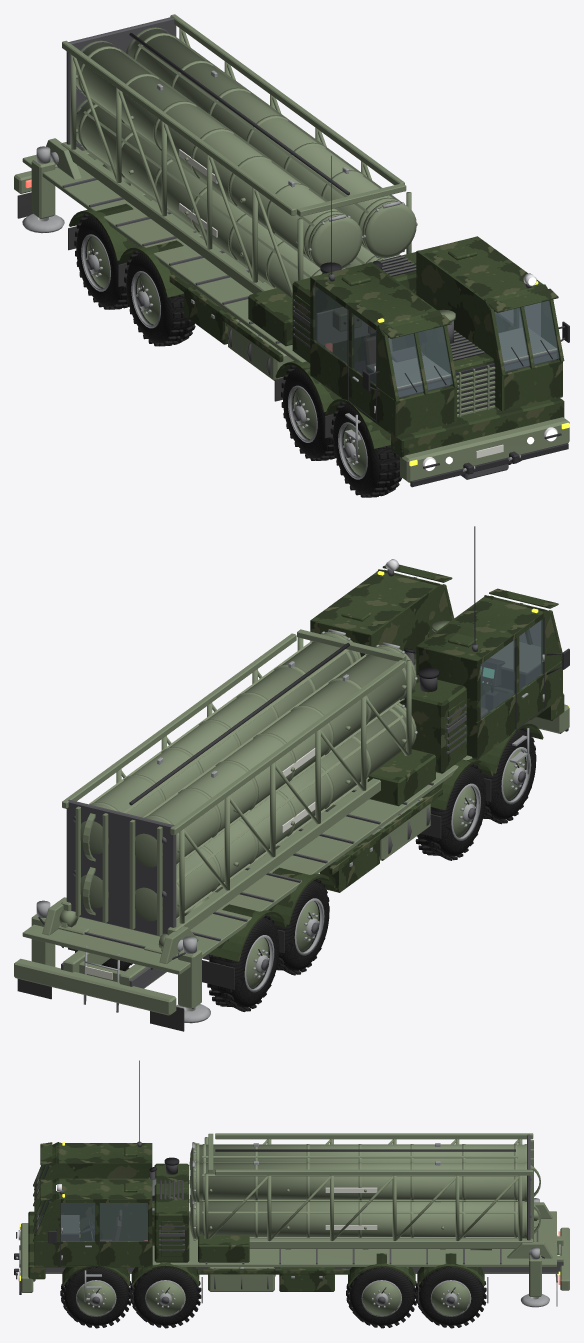
3 renders of one model, top to bottom at view 1: azimuth 30°, elevation 25°; view 2: azimuth 150°, elevation 25°; view 3: azimuth 270°, elevation 25°, orthographic. The views are drawn at different scales.
Visible parts, largest first — view 1: S400_body_geo, launcher_pitch_geo, canister_3_geo, canister_2_geo, canister_1_geo, wheel_5_geo, wheel_1_geo, wheel_3_geo, wheel_7_geo, lid_2_geo, lid_3_geo, jack_1_geo; view 2: S400_body_geo, launcher_pitch_geo, canister_3_geo, canister_2_geo, canister_1_geo, wheel_7_geo, wheel_3_geo, wheel_5_geo, wheel_1_geo; view 3: S400_body_geo, launcher_pitch_geo, canister_0_geo, canister_2_geo, canister_3_geo, wheel_4_geo, wheel_2_geo, wheel_6_geo, wheel_0_geo.
Boxes of the visible parts, x1,y1,x2,y2 form: S400_body_geo: (14,138,569,487); launcher_pitch_geo: (61,14,411,298); canister_3_geo: (76,40,347,264); canister_2_geo: (126,27,401,252); canister_1_geo: (76,99,345,297); wheel_5_geo: (124,250,195,346); wheel_1_geo: (331,402,401,497); wheel_3_geo: (281,365,335,460); wheel_7_geo: (74,214,129,309); lid_2_geo: (363,201,417,258); lid_3_geo: (308,214,363,268); jack_1_geo: (22,214,64,233); S400_body_geo: (14,526,569,1031); launcher_pitch_geo: (59,629,411,950); canister_3_geo: (135,646,414,867); canister_2_geo: (73,632,359,854); canister_1_geo: (135,704,414,921); wheel_7_geo: (207,915,279,1011); wheel_3_geo: (415,764,485,860); wheel_5_geo: (275,878,329,975); wheel_1_geo: (482,727,536,824); S400_body_geo: (14,1060,569,1306); launcher_pitch_geo: (204,1133,540,1249); canister_0_geo: (195,1201,531,1239); canister_2_geo: (195,1161,531,1202); canister_3_geo: (195,1143,526,1162); wheel_4_geo: (346,1267,417,1328); wheel_2_geo: (129,1267,201,1328); wheel_6_geo: (415,1267,486,1328); wheel_0_geo: (60,1267,131,1328).
Bounding box in the file's own units: 3.72 × 5.54 × 12.85.
Materials: 23 (2 with a texture image).
